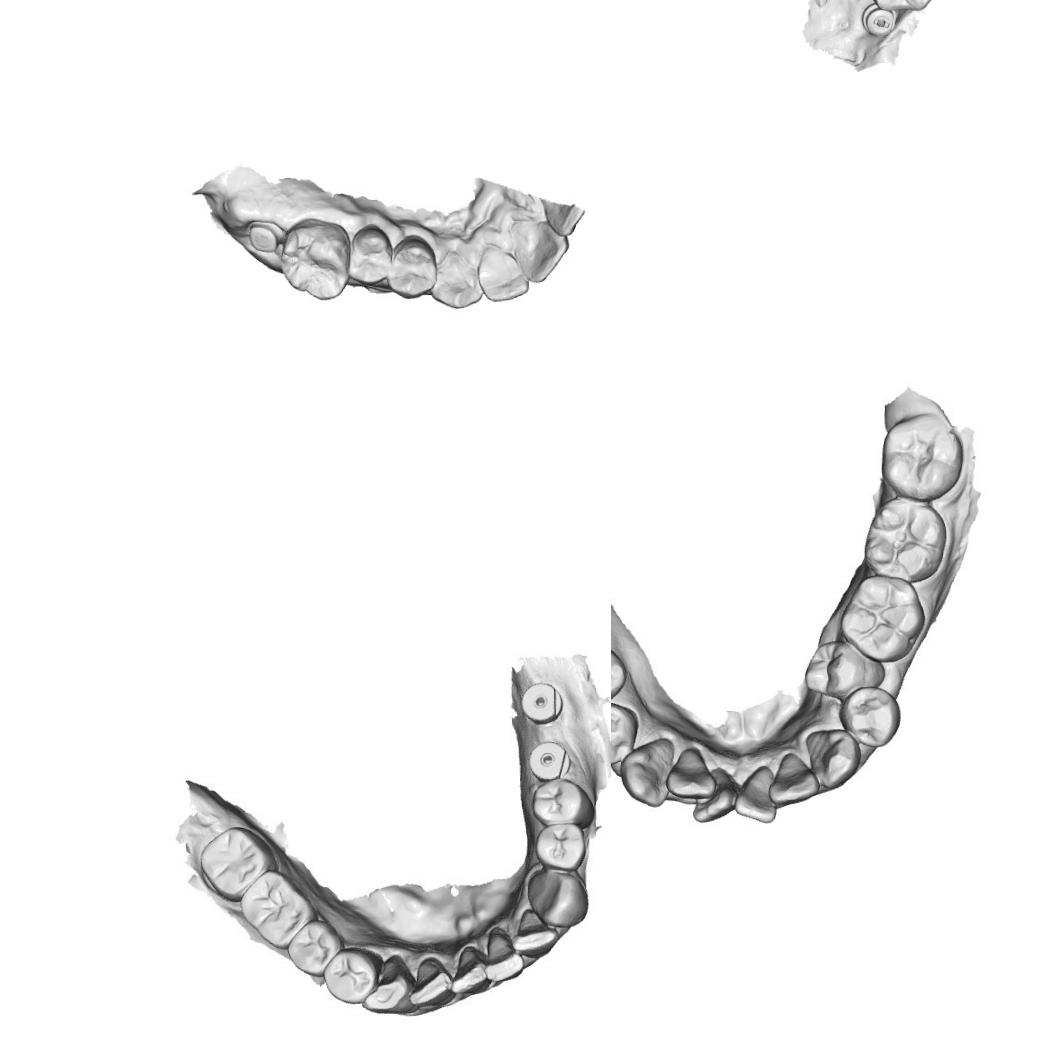abutment: (246, 218, 280, 256)
canine: (526, 868, 591, 929), (358, 954, 418, 1018), (620, 738, 674, 808), (427, 246, 484, 310), (805, 727, 862, 790)
implant: (520, 681, 564, 726), (526, 740, 572, 781)
implant_minus: (858, 2, 900, 40)
incisor: (507, 219, 571, 284), (476, 242, 530, 304), (766, 750, 821, 806), (730, 764, 779, 825), (663, 746, 715, 803), (691, 769, 740, 824), (509, 908, 560, 959), (408, 956, 455, 1009), (482, 925, 524, 983), (450, 944, 492, 995)
molar: (837, 572, 927, 664), (876, 412, 964, 502), (864, 494, 950, 584), (238, 868, 320, 951), (278, 215, 354, 304), (198, 824, 278, 904), (866, 0, 946, 15)
premolar: (802, 637, 884, 701), (835, 686, 901, 750), (285, 918, 346, 979), (322, 946, 383, 1006), (386, 234, 438, 300), (531, 778, 596, 828), (346, 223, 394, 287), (533, 822, 587, 872), (611, 701, 637, 765), (611, 644, 627, 708)
